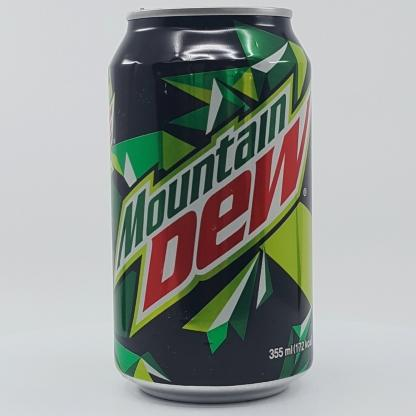------355ML: (107, 7, 314, 403)
